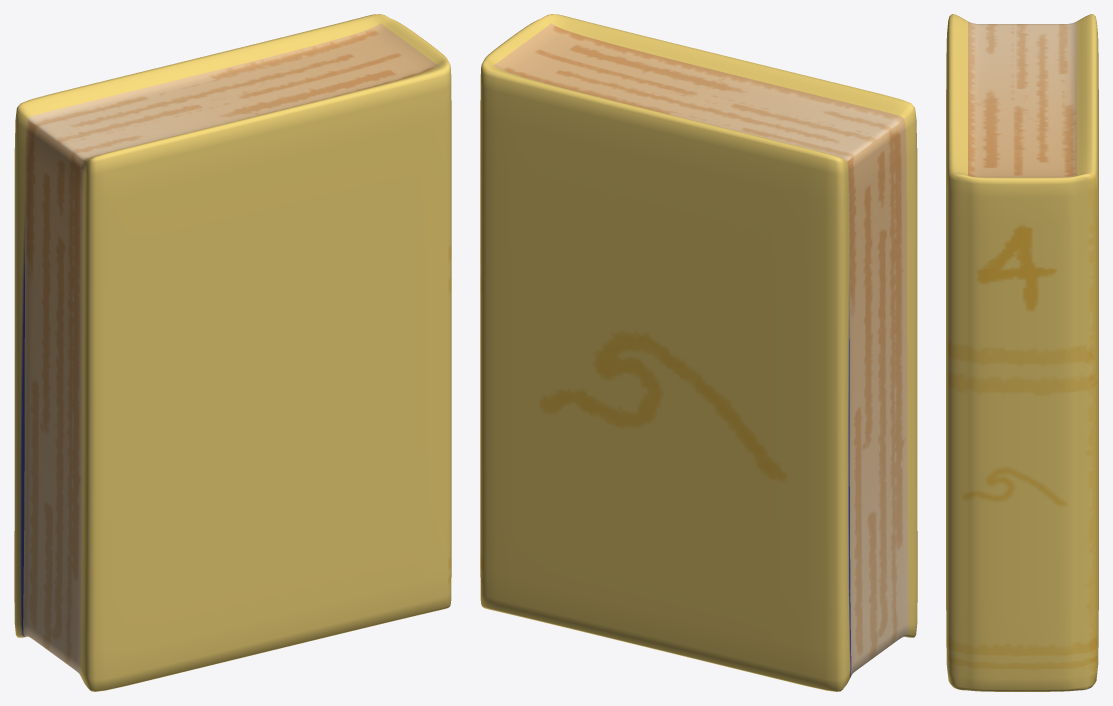
Rendered from level04.fbx.
The picture shows the model from 3 angles, left to right: view 1: azimuth 30°, elevation 25°; view 2: azimuth 150°, elevation 25°; view 3: azimuth 270°, elevation 25°; orthographic projection. The views are drawn at different scales.
Parts seen in each view (by area): view 1: Cube; view 2: Cube; view 3: Cube.
Part boxes in pixels (box(x1,y1,x2,y2)): Cube: box(14, 14, 451, 691); Cube: box(480, 14, 917, 691); Cube: box(946, 14, 1098, 691).
Bounding box in the file's own units: 7.54 × 20.27 × 28.04.
